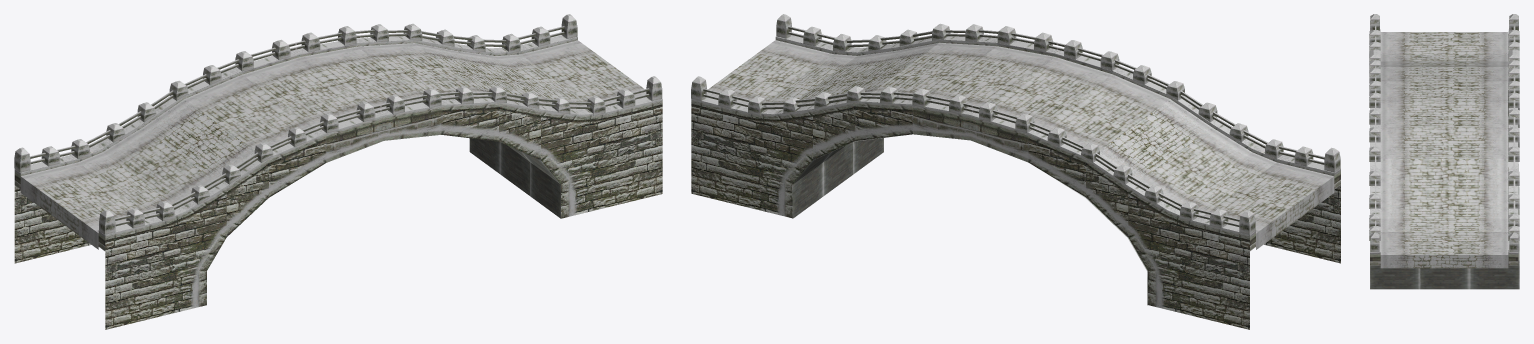
The model's file is nsm-10m-bridge02.fbx.
3 views of the same model, side by side, from view 1: azimuth 30°, elevation 25°; view 2: azimuth 150°, elevation 25°; view 3: azimuth 270°, elevation 25° (orthographic). The views are drawn at different scales.
Visible parts, largest first — view 1: nsm-10m-bridge02, nsm-10m-bridge01; view 2: nsm-10m-bridge02, nsm-10m-bridge01; view 3: nsm-10m-bridge02.
Boxes of the visible parts, x1,y1,x2,y2 form: nsm-10m-bridge02: (14, 14, 662, 250); nsm-10m-bridge01: (14, 37, 662, 329); nsm-10m-bridge02: (691, 14, 1340, 305); nsm-10m-bridge01: (691, 37, 1340, 329); nsm-10m-bridge02: (1369, 14, 1519, 289).
Size of the model in its own units: 28.93 by 7.94 by 8.24.
